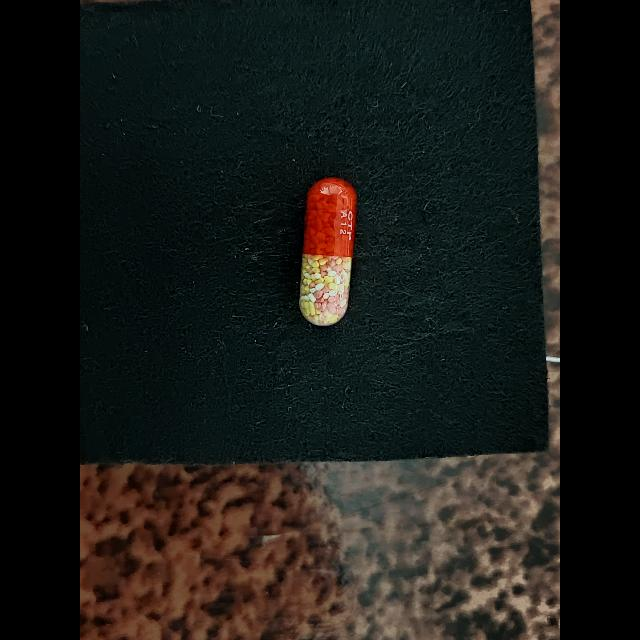Intact Capsule: (299, 178, 357, 326)
